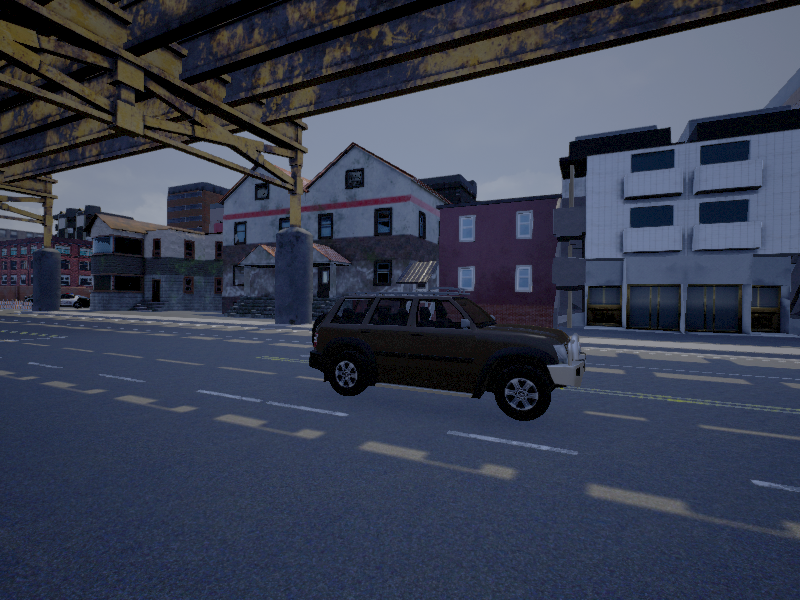benign: (308, 297, 587, 423)
